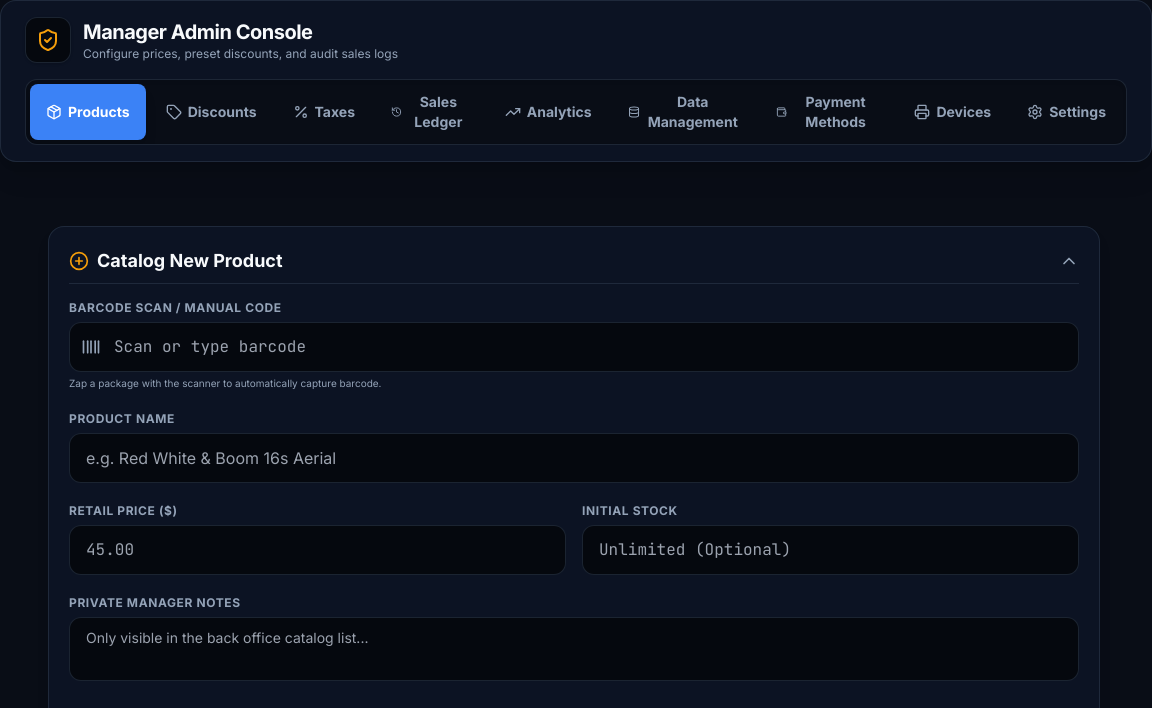
Test: AdminView Component › renders receipt preview with correct layout classes (items-start, h-fit)
Expected: the heading "Manager Admin Console" is shown, [83,18,312,46]
Note: Go to Settings to access receipt preview section
Click the button "Settings" at (1067, 112), box [1011,84,1122,140]
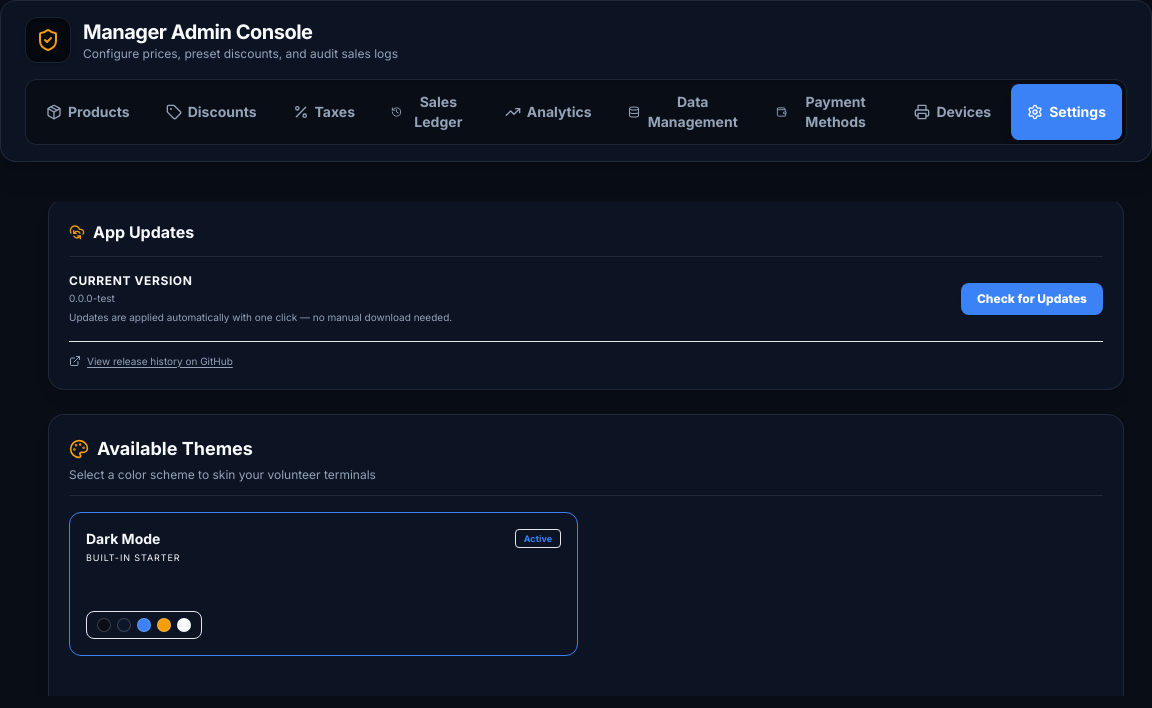
Expected: the heading "Available Themes" is shown, [69,438,253,458]
